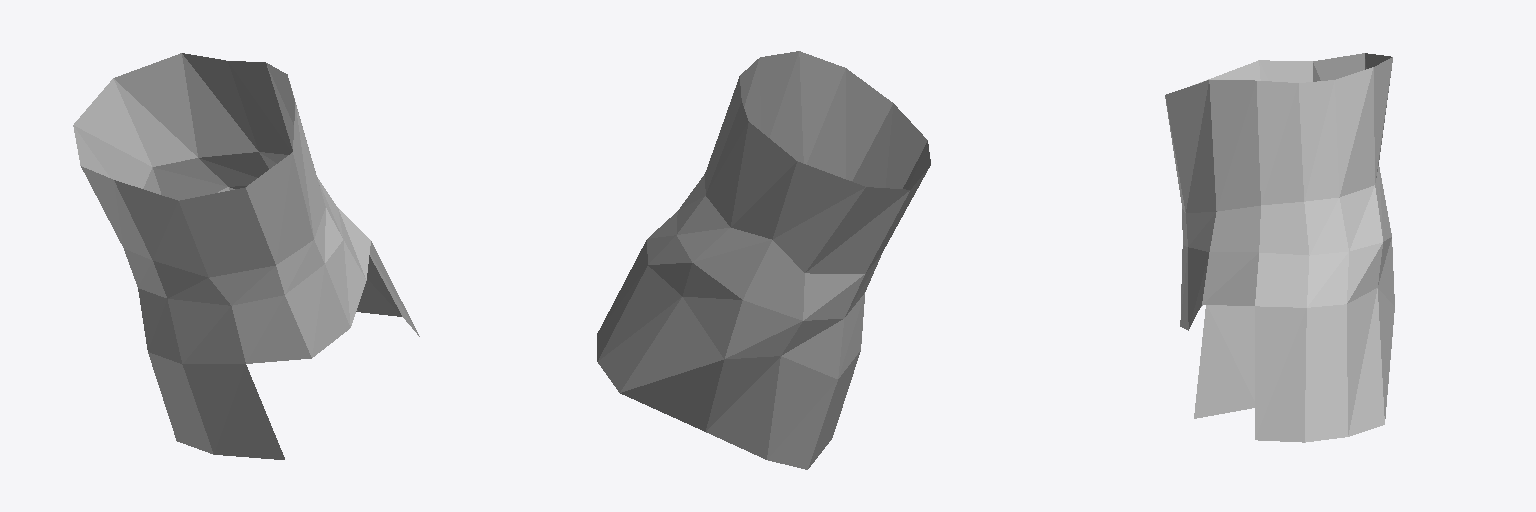
The model's file is rightupperarm.obj.
The picture shows the model from 3 angles: view 1: azimuth 30°, elevation 25°; view 2: azimuth 150°, elevation 25°; view 3: azimuth 270°, elevation 25°; orthographic projection.
Parts seen in each view (by area): view 1: Patrick.007_Patrick.003; view 2: Patrick.007_Patrick.003; view 3: Patrick.007_Patrick.003.
Part boxes in pixels (x1,y1,x2,y2): Patrick.007_Patrick.003: (73, 53, 419, 459); Patrick.007_Patrick.003: (597, 51, 930, 469); Patrick.007_Patrick.003: (1165, 53, 1394, 442).
Size of the model in its own units: 0.1413 by 0.1572 by 0.0885.